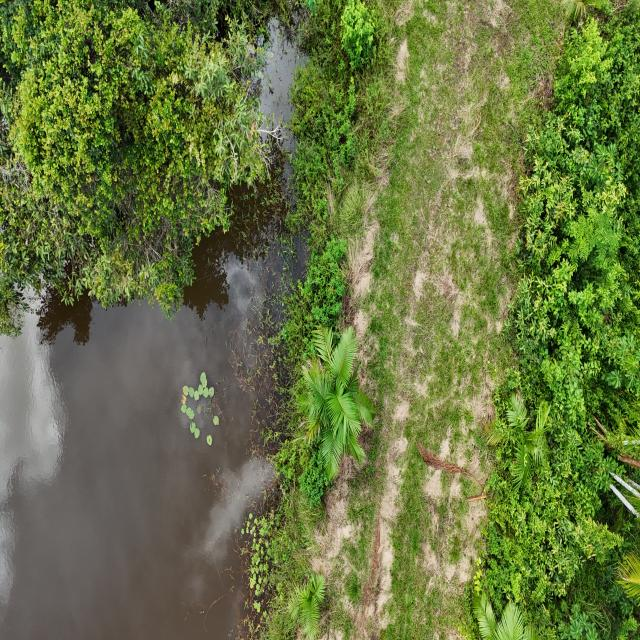vegetation: (471, 2, 639, 637), (1, 0, 284, 337)
